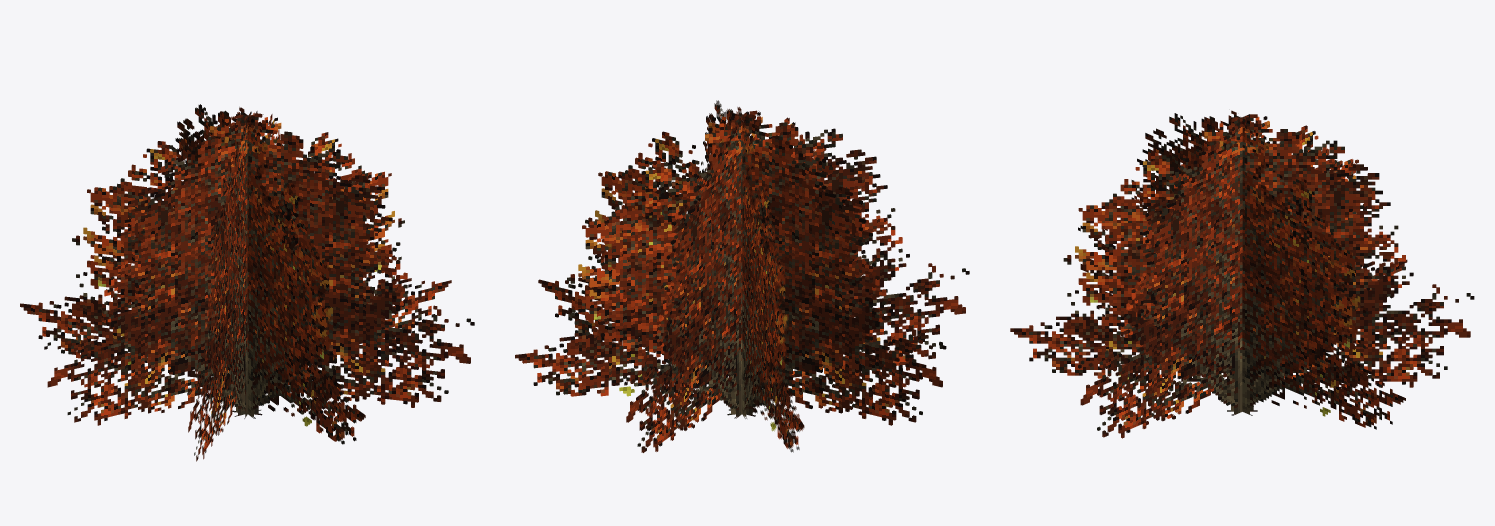
The model's file is bush07.glb.
3 renders of one model, left to right at view 1: azimuth 30°, elevation 25°; view 2: azimuth 150°, elevation 25°; view 3: azimuth 270°, elevation 25°, orthographic.
Parts seen in each view (by area): view 1: bush07; view 2: bush07; view 3: bush07.
Boxes of the visible parts, x1,y1,x2,y2 form: bush07: (20,104,474,461); bush07: (515,100,969,452); bush07: (1010,110,1474,438).
Size of the model in its own units: 1.75 by 1.2 by 1.75.
1 material, 1 textured.
